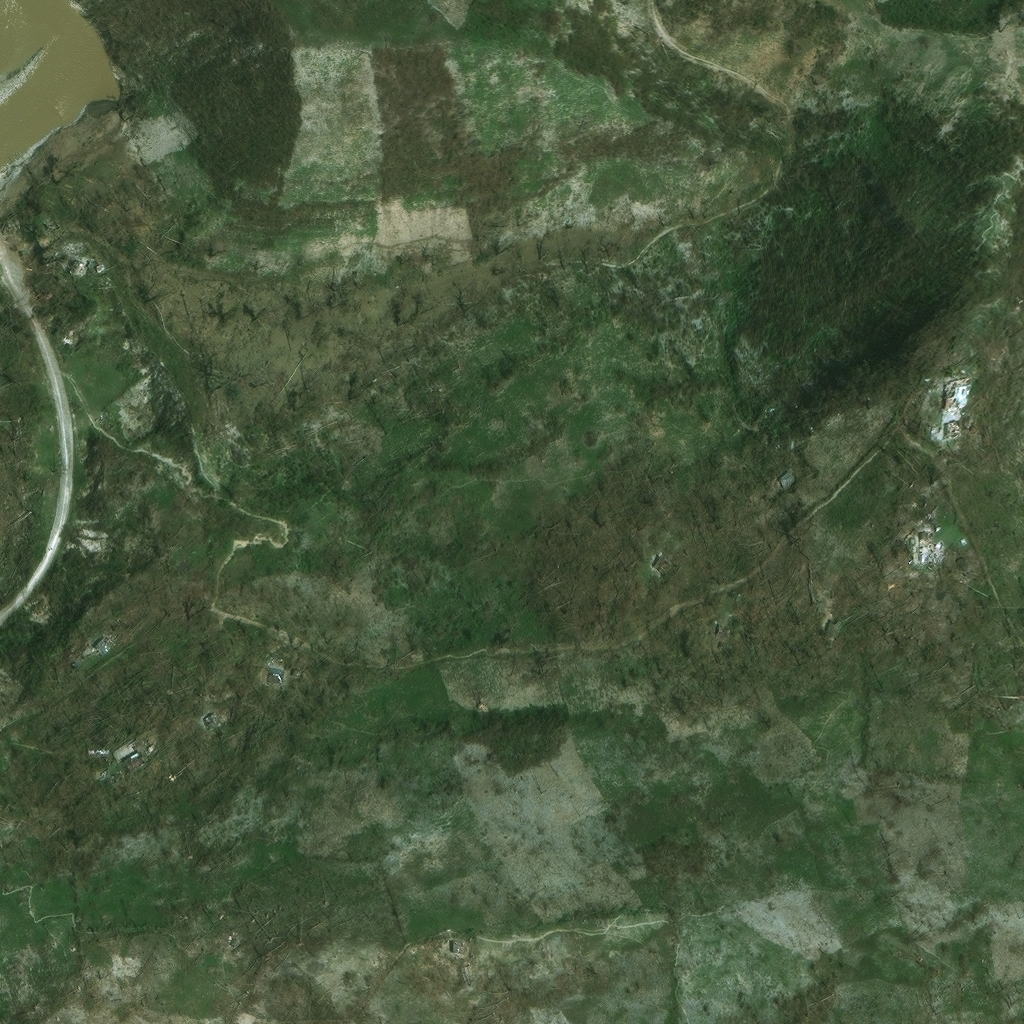destroyed: (146, 733, 173, 758), (858, 598, 877, 617), (678, 540, 697, 557), (225, 697, 244, 714), (407, 486, 423, 502), (806, 456, 822, 472), (70, 260, 84, 275), (929, 537, 942, 553), (414, 318, 434, 328), (1, 828, 15, 841), (438, 946, 453, 958), (289, 658, 304, 670), (758, 600, 775, 610), (105, 961, 118, 973), (240, 929, 252, 941)
major_damage: (126, 616, 145, 634), (931, 401, 945, 418), (935, 429, 947, 441)
